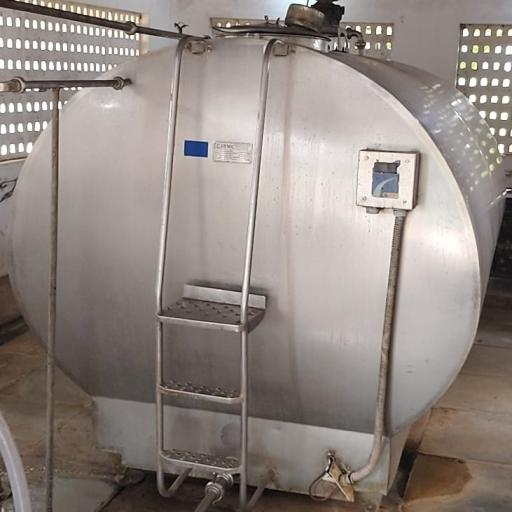silo: (9, 21, 508, 500)
